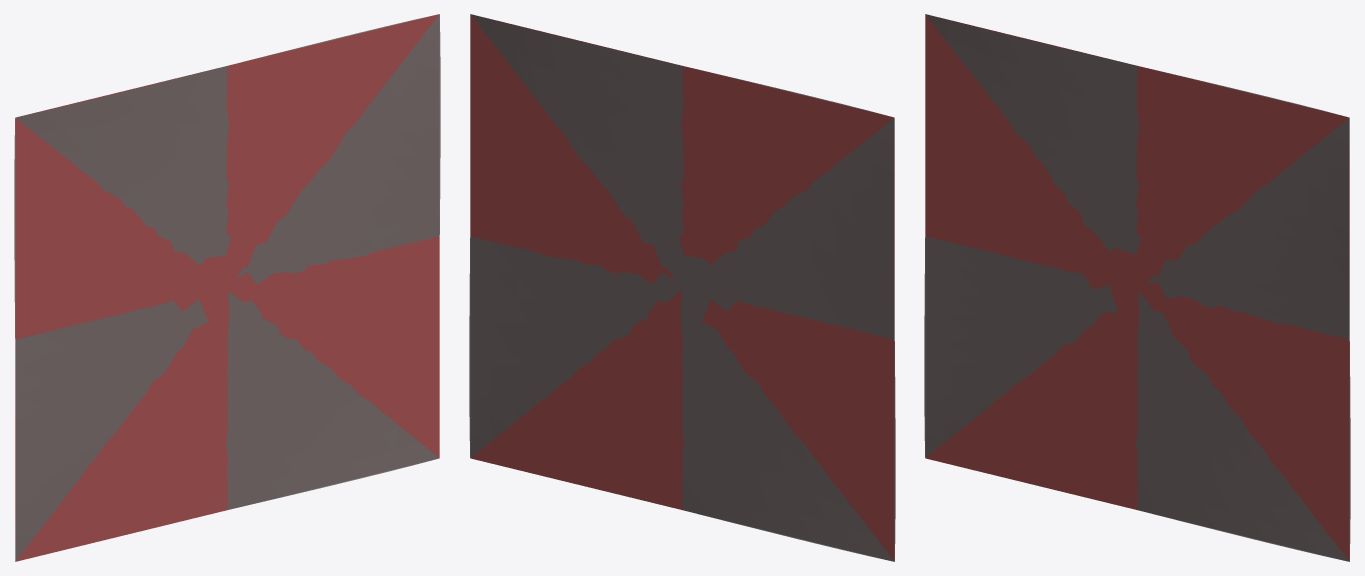
The model's file is warping-rectangle-100-100-357.glb.
3 renders of one model, left to right at view 1: azimuth 30°, elevation 25°; view 2: azimuth 150°, elevation 25°; view 3: azimuth 330°, elevation 25°, orthographic.
Parts seen in each view (by area): view 1: undeformed cross-section, cross-section with warping; view 2: undeformed cross-section, cross-section with warping; view 3: undeformed cross-section, cross-section with warping.
Boxes of the visible parts, <box> form: undeformed cross-section: <box>15,14,439,561</box>; cross-section with warping: <box>14,14,440,561</box>; undeformed cross-section: <box>470,14,894,561</box>; cross-section with warping: <box>469,14,895,561</box>; undeformed cross-section: <box>925,14,1349,561</box>; cross-section with warping: <box>924,14,1350,561</box>.
Bounding box in the file's own units: 0.1 × 0.1 × 0.000731.
